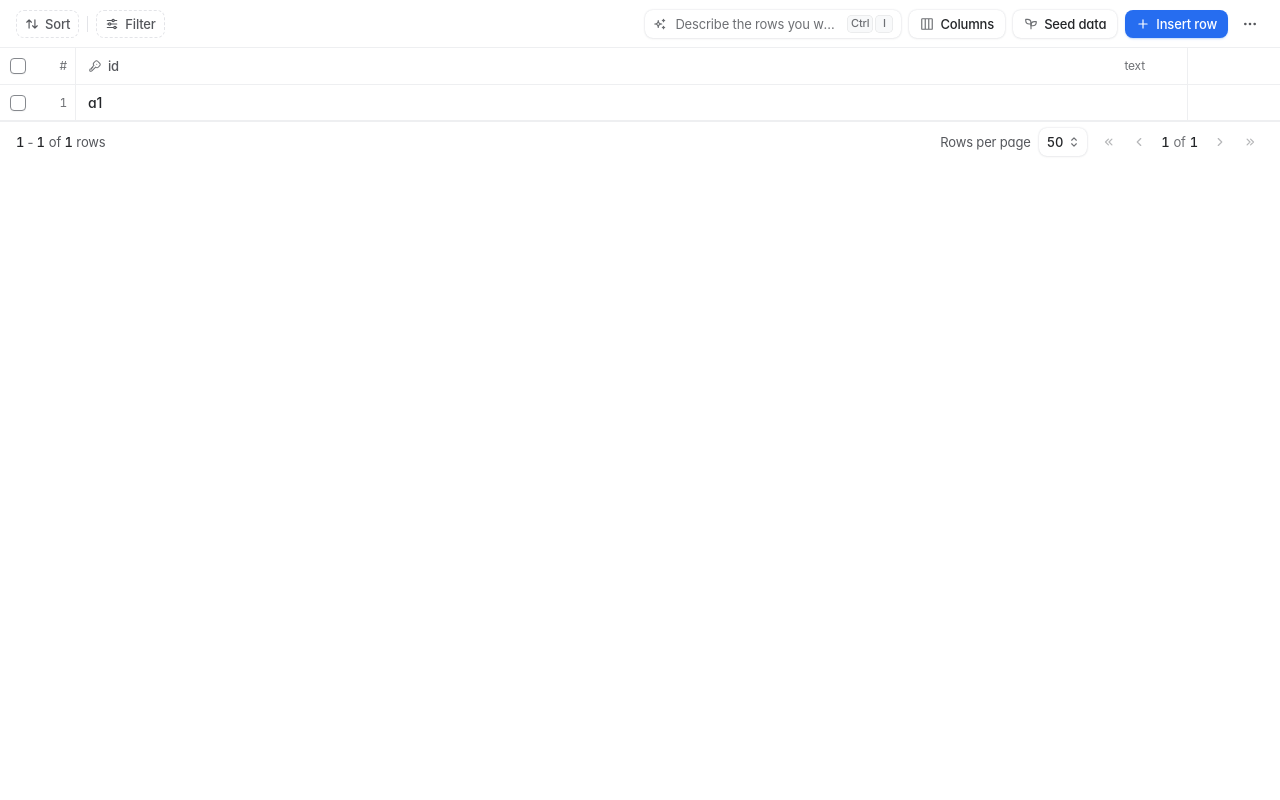
when the AI filter drops conditions it could not make executable › refuses an empty answer that carries no note at all
This screenshot has width=1280, height=800.
Expected: the text "a1" is shown, top-left (88, 94), bottom-right (102, 110)
Click the button with aria-label "natural language": (773, 24) top-left (645, 10), bottom-right (901, 38)
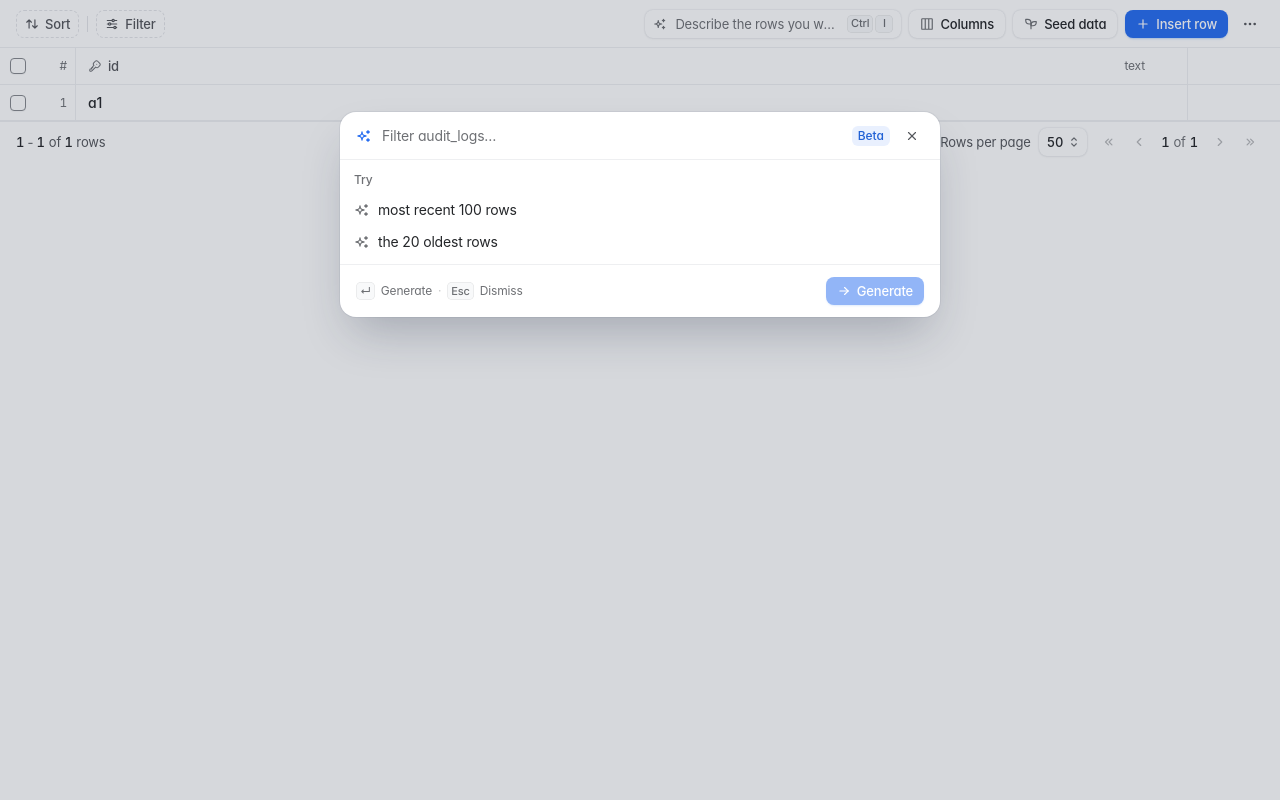
In the field with placeholder "Filter audit_logs…": (612, 136) top-left (382, 126), bottom-right (842, 146), type "rows where action is banana"
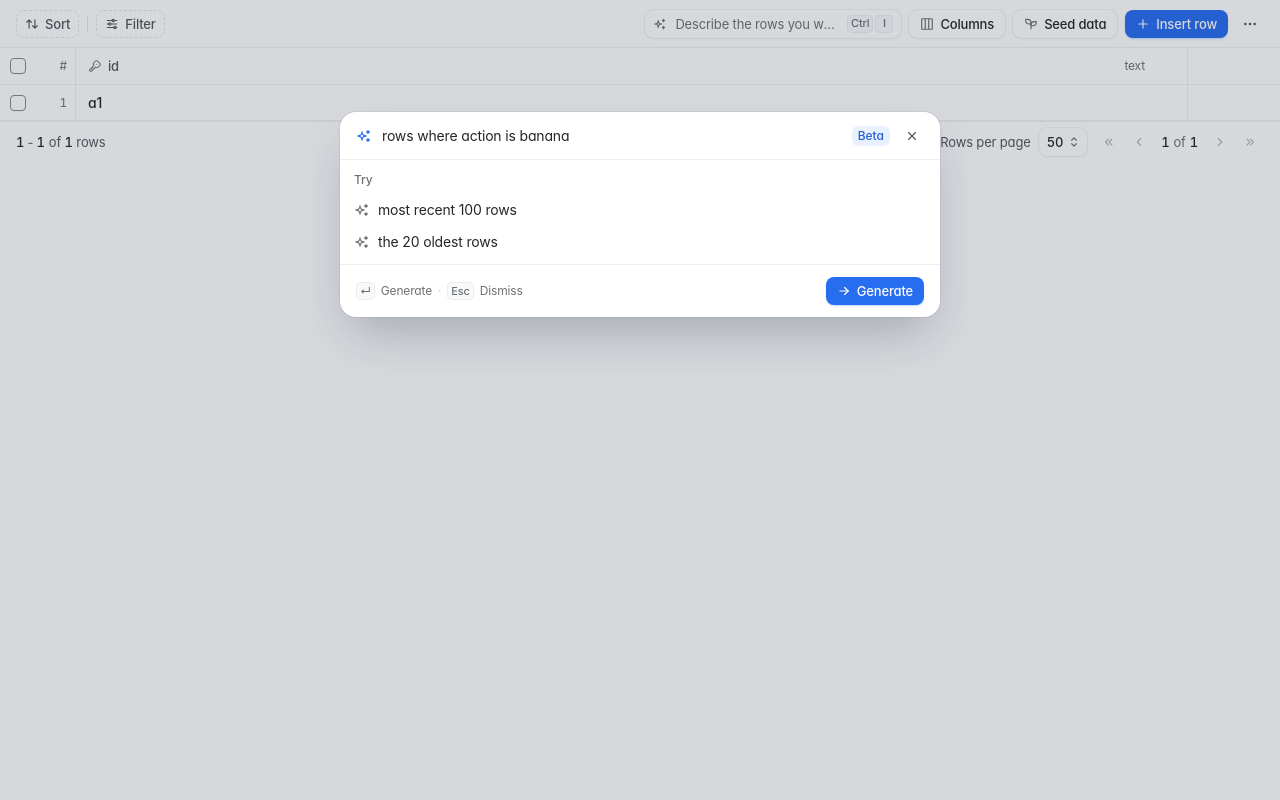
Press Enter in the field with placeholder "Filter audit_logs…", box top-left (382, 126), bottom-right (842, 146)
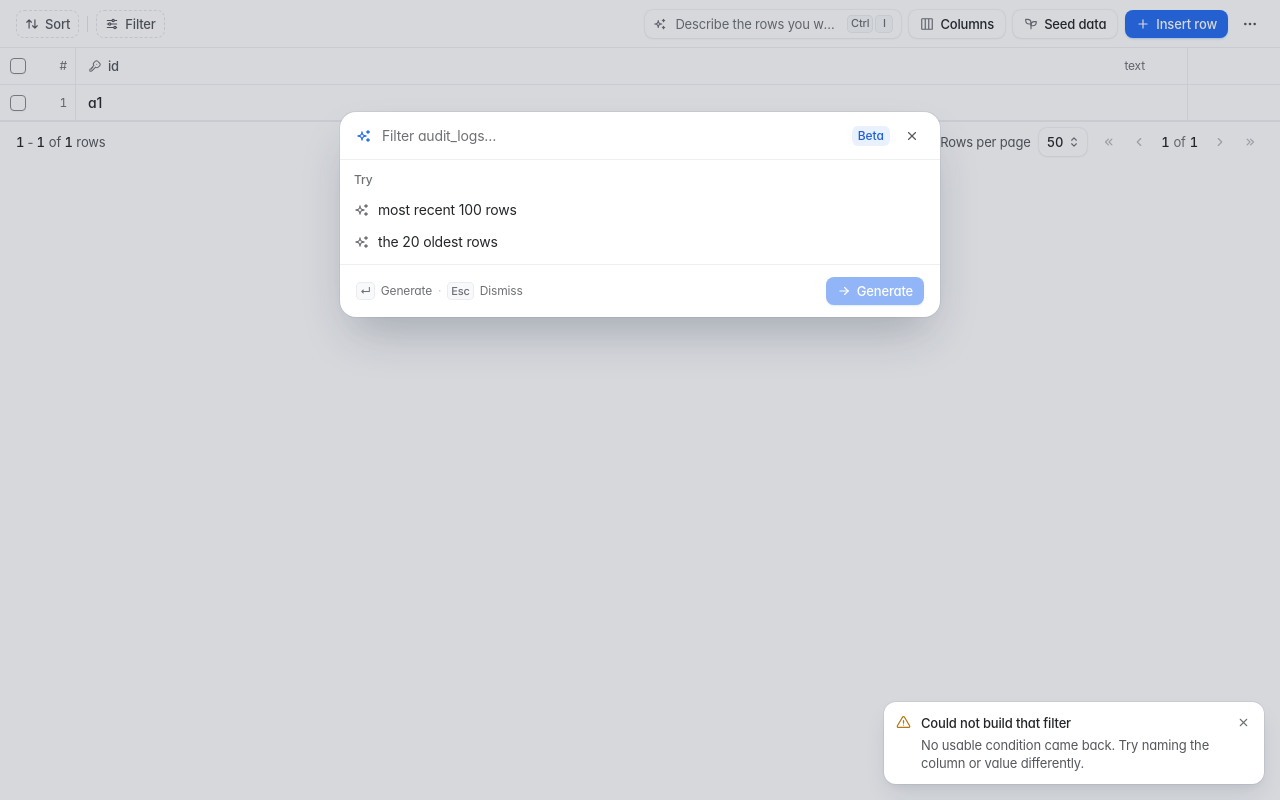
Expected: the text "Could not build that filter" is shown, top-left (921, 714), bottom-right (1071, 732)
Expected: the text "No usable condition" is shown, top-left (921, 737), bottom-right (1209, 771)
